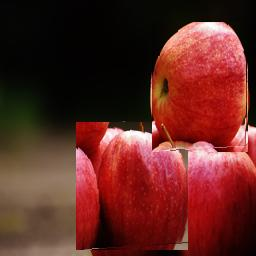Apple Fresh: (76, 123, 188, 251), (153, 23, 249, 153)
